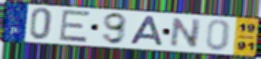0: (205, 19, 233, 53), (30, 7, 56, 42)
9: (100, 12, 130, 46)
A: (127, 15, 166, 48)
E: (57, 9, 93, 44)
N: (168, 17, 204, 49)
